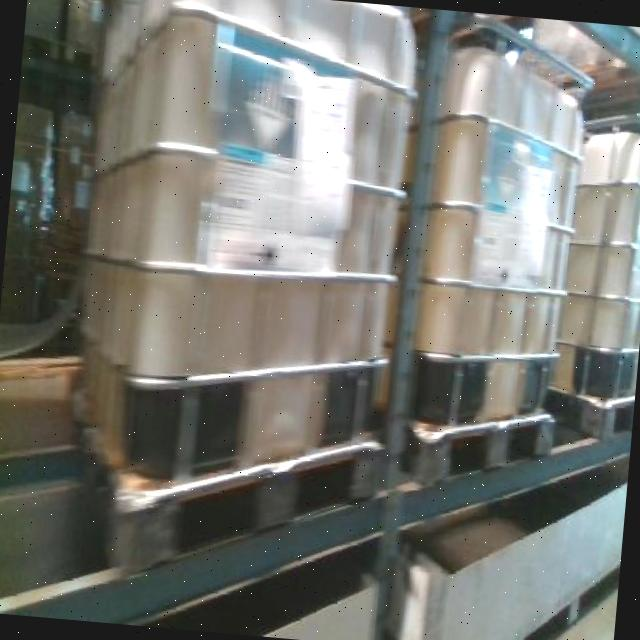pallet: (113, 424, 395, 589), (400, 399, 565, 493)
